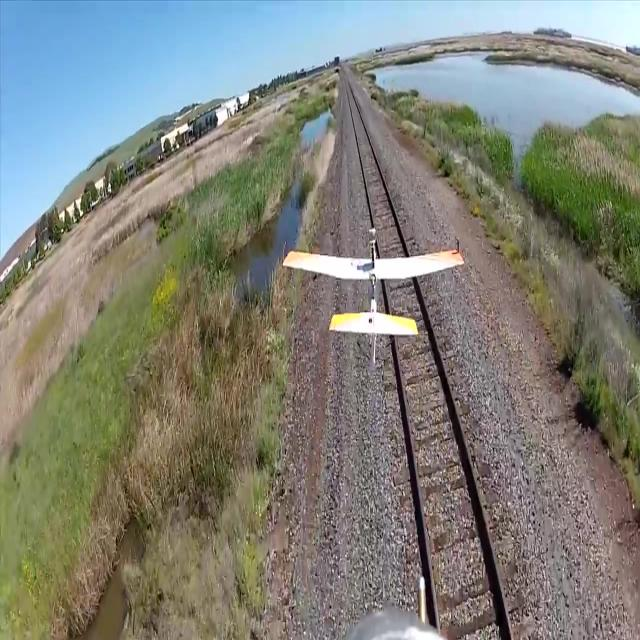iha: (281, 230, 466, 362)
